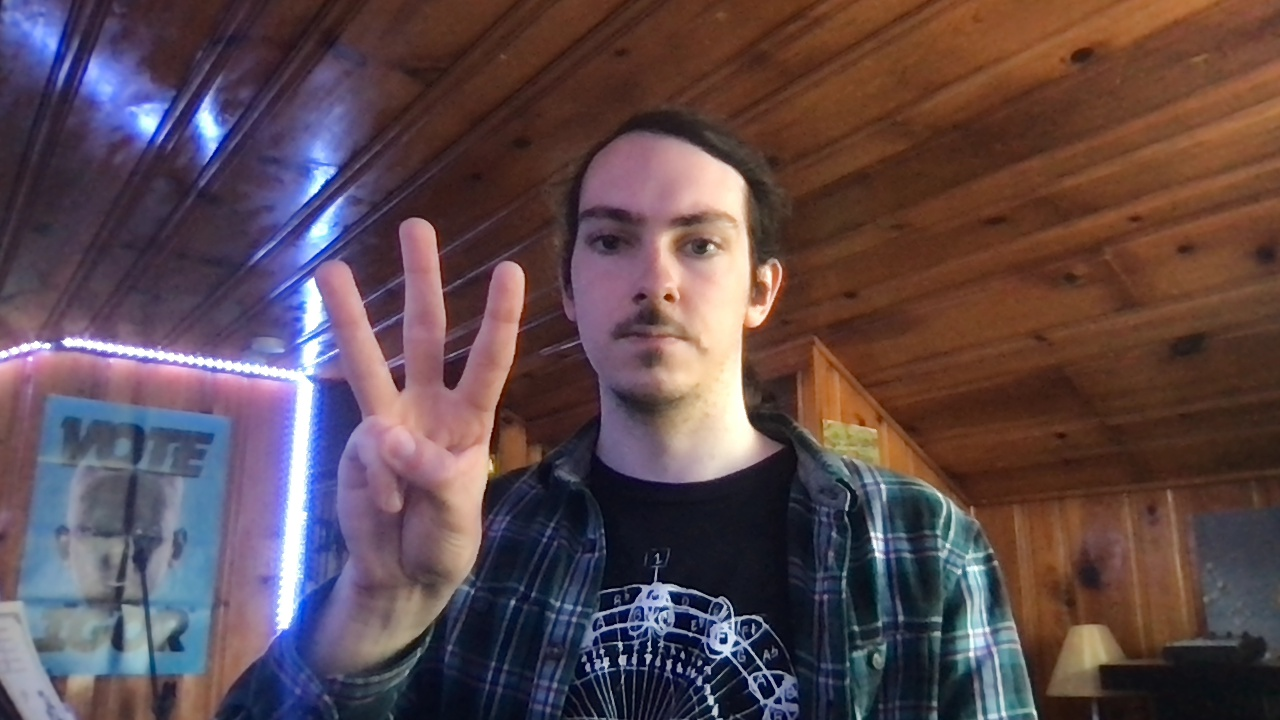w: (314, 216, 526, 591)
